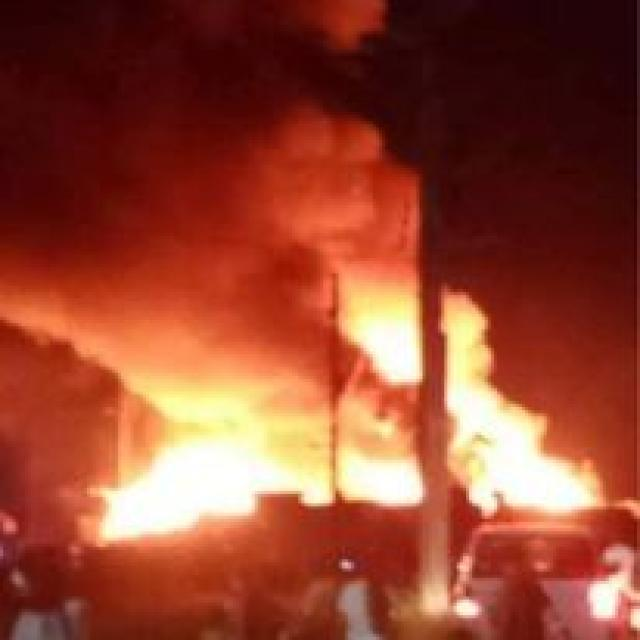Fire: (342, 404, 610, 524), (98, 411, 292, 540)
Smoke: (1, 1, 434, 302)
